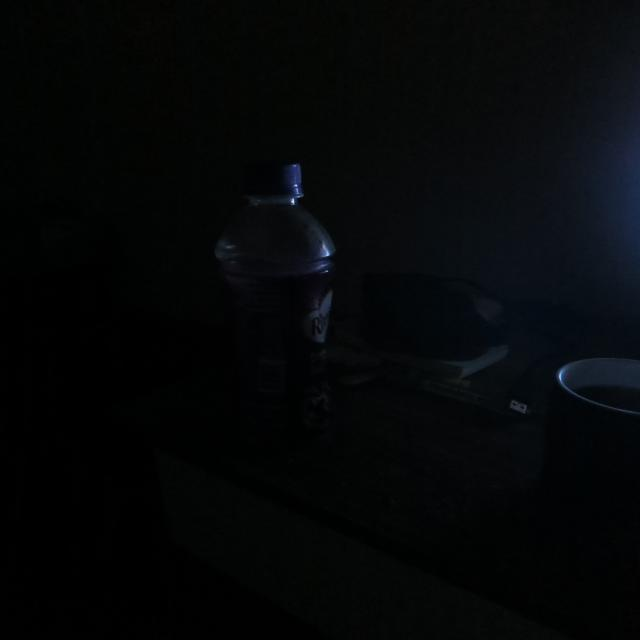Bottle: (212, 140, 376, 461)
Cup: (493, 319, 640, 539)
